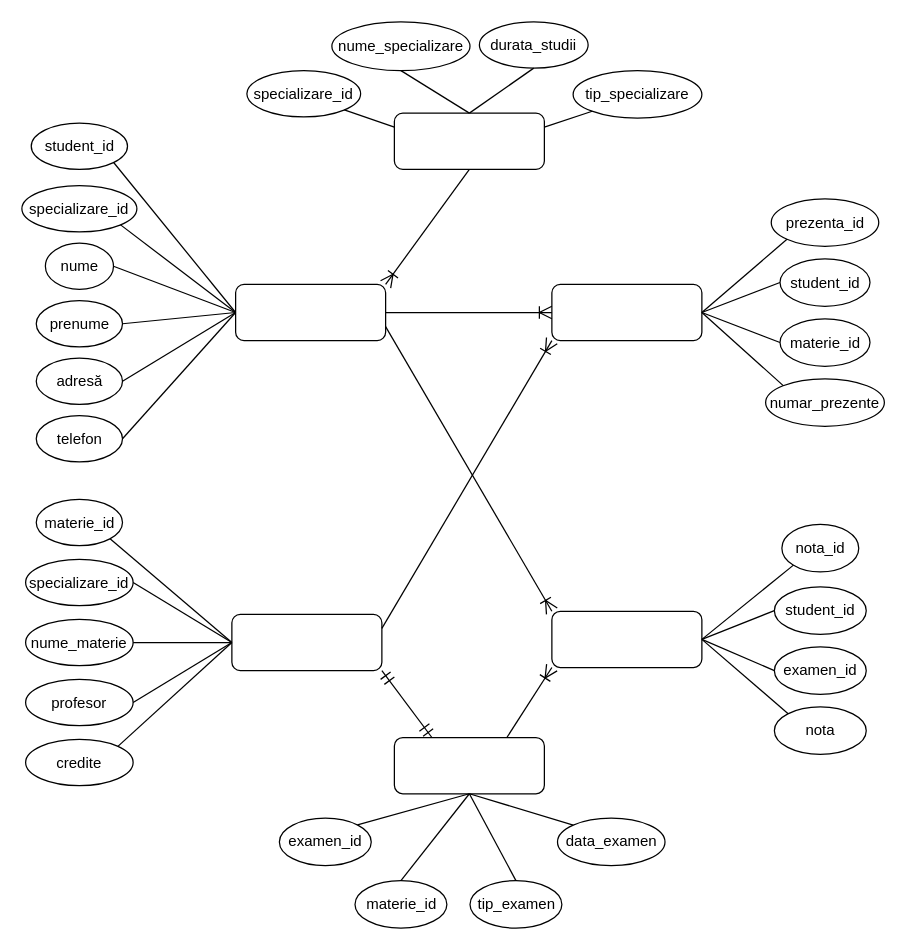
Image size: 906x950. Some labels were removed from this diagram. Each missing label, with the centre of its shape:
"Examene" belongs at point 468,765.
"Materii" belongs at point 306,642.
"Note" belongs at point 626,639.
"Prezențe" belongs at point 626,312.
"Specializări" belongs at point 468,140.
"Studenți" belongs at point 310,312.
